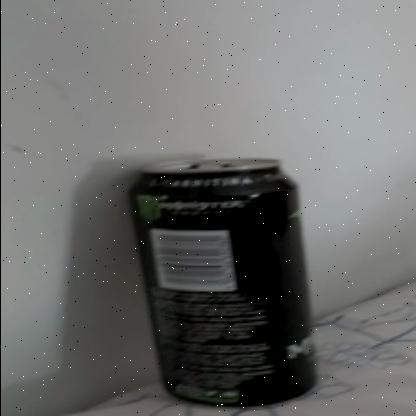Can: (126, 156, 320, 410)
